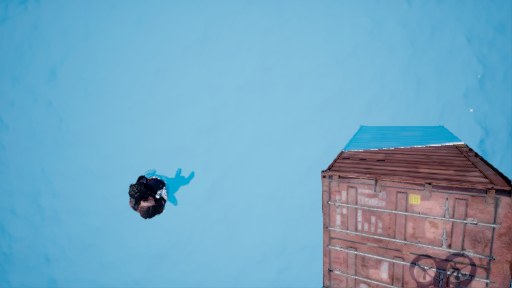person: (128, 167, 190, 222)
